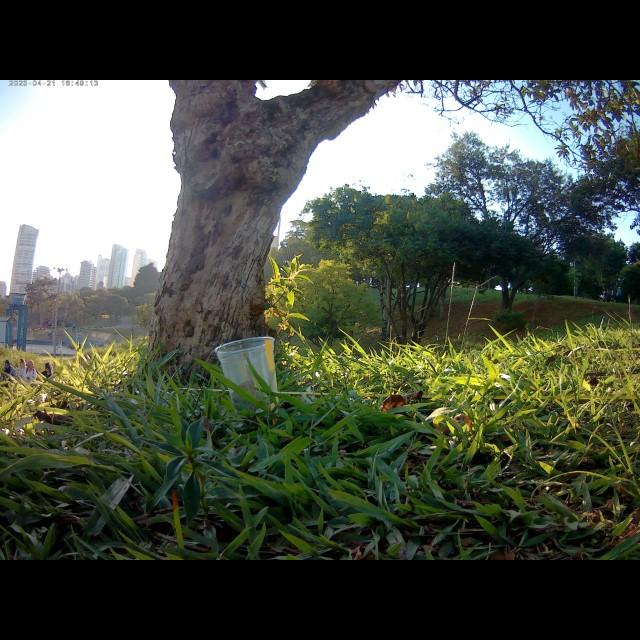arvore: (138, 80, 404, 406)
